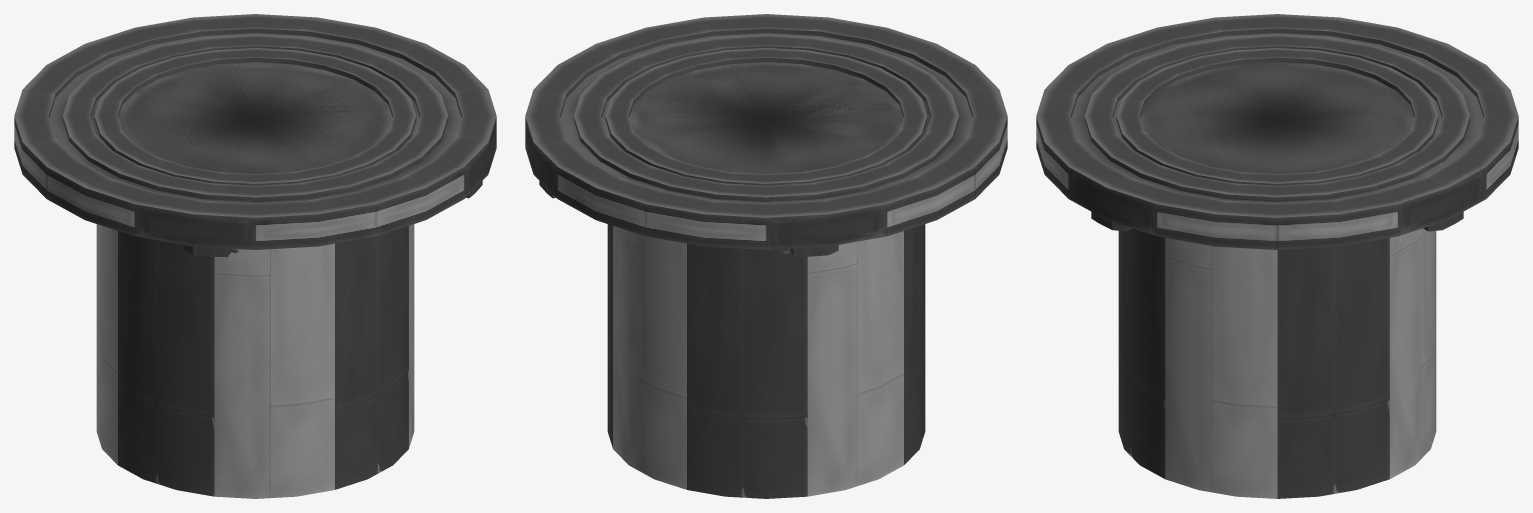
The model's file is LR87_SingleChamber.dae.
The picture shows the model from 3 angles, left to right: view 1: azimuth 30°, elevation 25°; view 2: azimuth 150°, elevation 25°; view 3: azimuth 270°, elevation 25°; orthographic projection.
Visible parts, largest first — view 1: fairing, Mount1875m, Mount125m2, Mount15m; view 2: fairing, Mount1875m, Mount125m2, Mount15m; view 3: fairing, Mount1875m, Mount15m, Mount125m2.
Part boxes in pixels (x1=…): fairing: x1=96, y1=224, x2=414, y2=498; Mount1875m: x1=14, y1=14, x2=496, y2=257; Mount125m2: x1=94, y1=48, x2=416, y2=185; Mount15m: x1=63, y1=34, x2=447, y2=201; fairing: x1=607, y1=224, x2=925, y2=498; Mount1875m: x1=525, y1=14, x2=1007, y2=257; Mount125m2: x1=605, y1=48, x2=927, y2=185; Mount15m: x1=574, y1=34, x2=958, y2=201; fairing: x1=1118, y1=228, x2=1436, y2=498; Mount1875m: x1=1036, y1=14, x2=1518, y2=249; Mount15m: x1=1085, y1=34, x2=1469, y2=201; Mount125m2: x1=1116, y1=48, x2=1438, y2=185.
Size of the model in its own units: 1.88 by 1.36 by 1.88.
